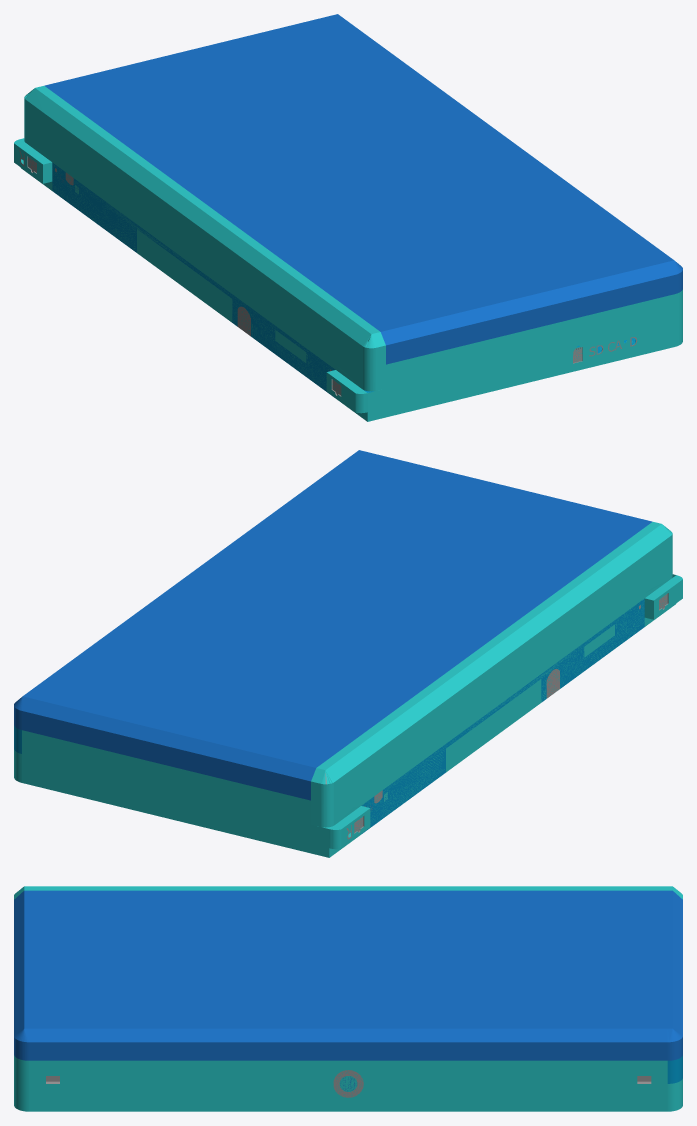
Rendered from SketchUp.037_ID303_SketchUp.037_ID303_material.obj.
3 renders of one model, top to bottom at view 1: azimuth 30°, elevation 25°; view 2: azimuth 150°, elevation 25°; view 3: azimuth 270°, elevation 25°, orthographic. The views are drawn at different scales.
Parts seen in each view (by area): view 1: 3ds_SketchUp.037_ID303_SketchUp.037_ID303_material; view 2: 3ds_SketchUp.037_ID303_SketchUp.037_ID303_material; view 3: 3ds_SketchUp.037_ID303_SketchUp.037_ID303_material.
Boxes of the visible parts, x1,y1,x2,y2 form: 3ds_SketchUp.037_ID303_SketchUp.037_ID303_material: (14, 14, 682, 421); 3ds_SketchUp.037_ID303_SketchUp.037_ID303_material: (14, 450, 682, 857); 3ds_SketchUp.037_ID303_SketchUp.037_ID303_material: (14, 886, 682, 1111).
Size of the model in its own units: 0.072 by 0.017 by 0.131.
